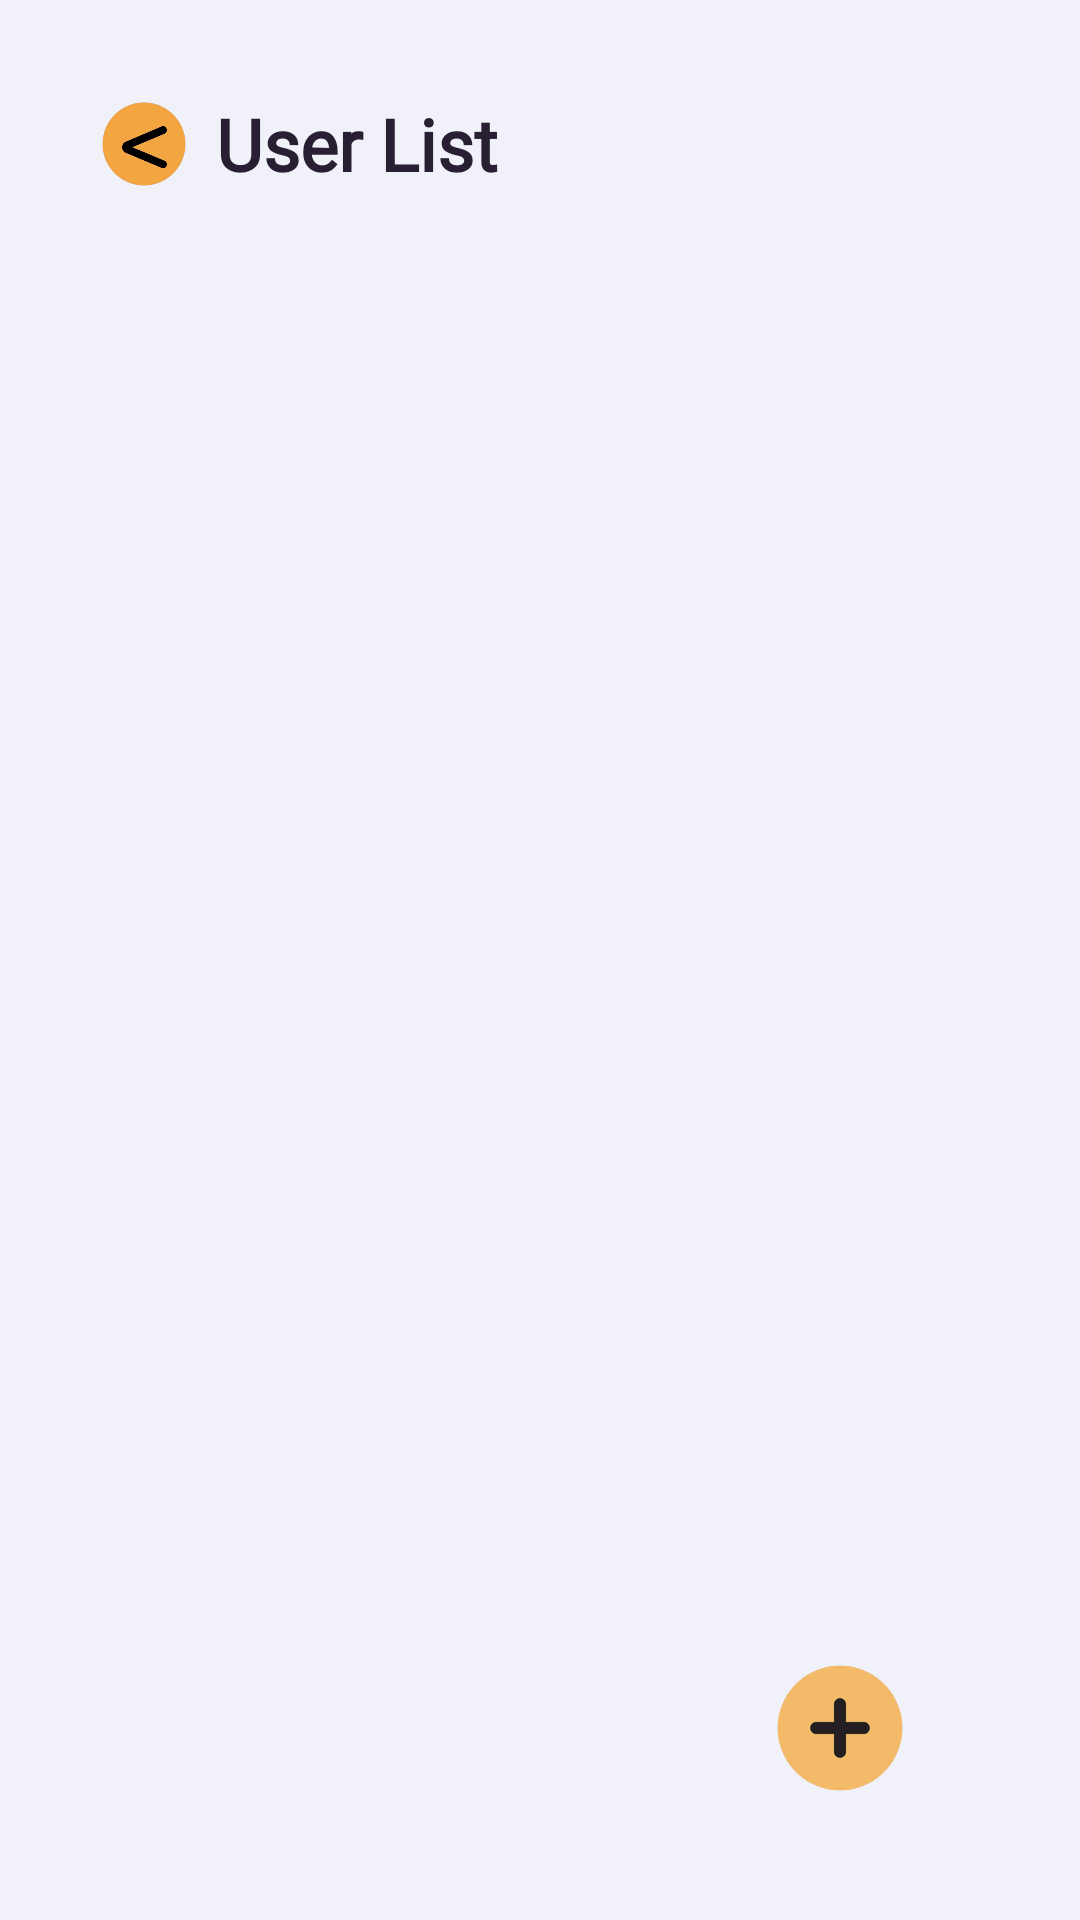

Icon click points for this 1080 x 1920 phone screenshot, format point (x, y):
Add new request: point (840, 1728)
Back Button: point (144, 144)
